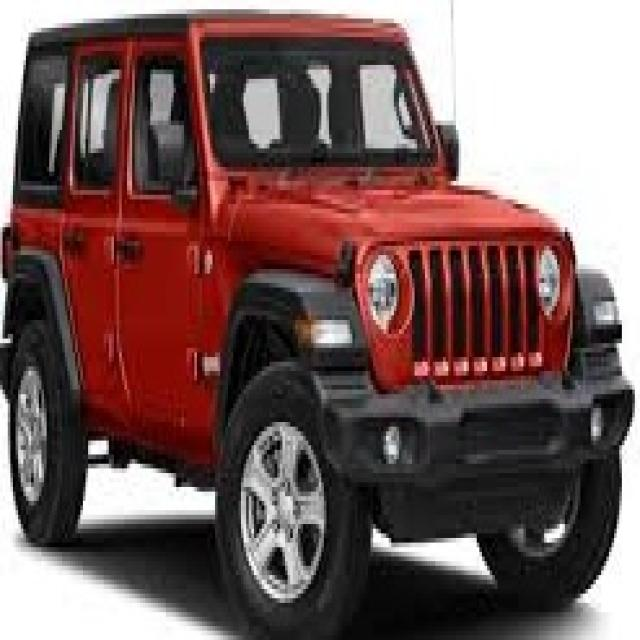maroon: (3, 16, 624, 599)
